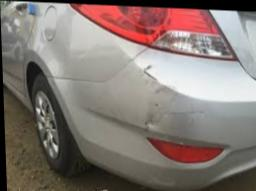Bumper: (47, 47, 208, 141)
